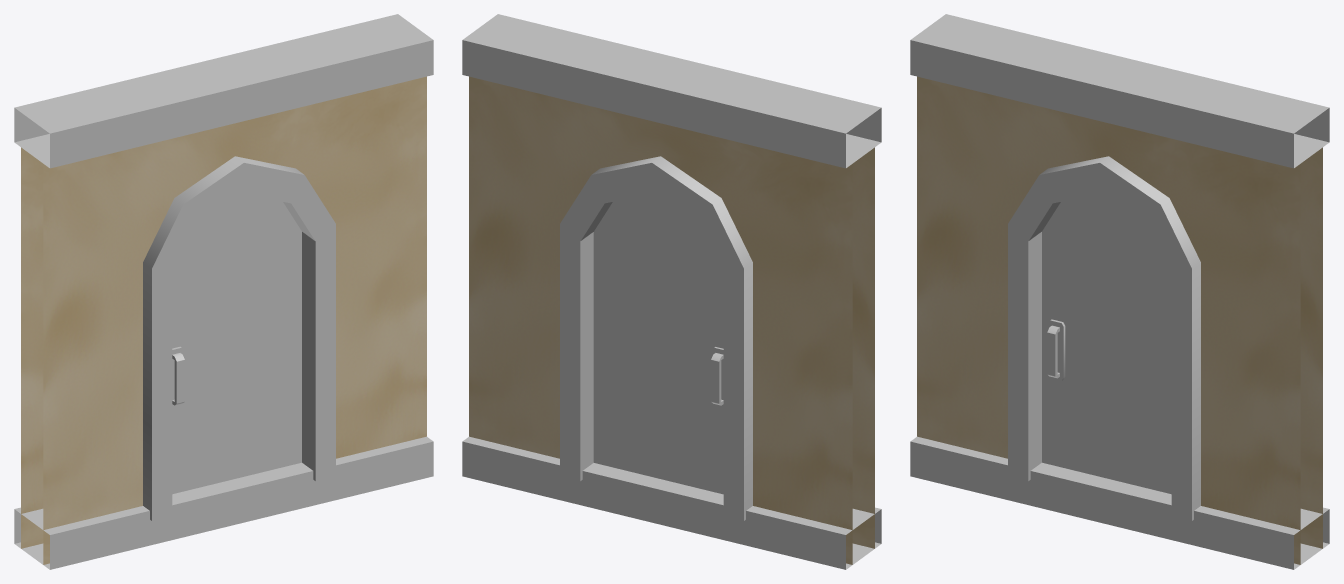
Rendered from MOD_gateway_wall.fbx.
3 renders of one model, left to right at view 1: azimuth 30°, elevation 25°; view 2: azimuth 150°, elevation 25°; view 3: azimuth 330°, elevation 25°, orthographic.
Parts seen in each view (by area): view 1: wall, door; view 2: wall, door; view 3: wall, door.
Part boxes in pixels (box(x1,y1,x2,y2)): wall: box(14, 14, 433, 569); door: box(172, 194, 301, 494); wall: box(462, 14, 881, 569); door: box(593, 194, 723, 494); wall: box(910, 14, 1329, 569); door: box(1042, 194, 1171, 494).
Bounding box in the file's own units: 118 × 21.33 × 128.
